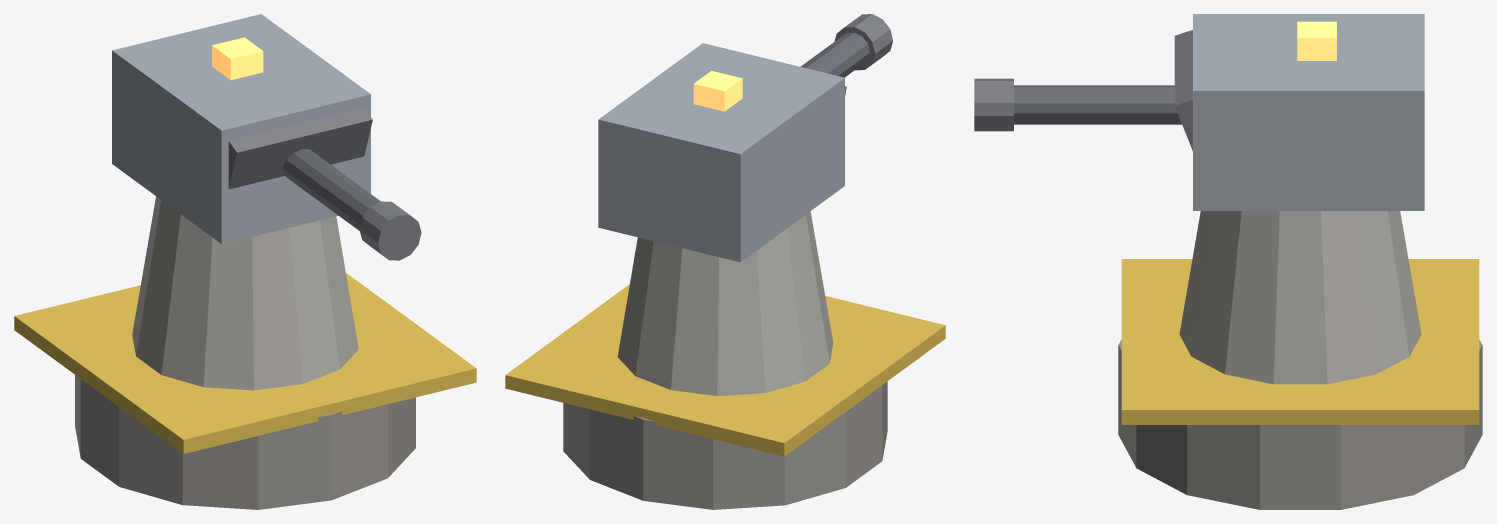
File: Bldg_HeavyTurret.fbx
The picture shows the model from 3 angles, left to right: view 1: azimuth 30°, elevation 25°; view 2: azimuth 150°, elevation 25°; view 3: azimuth 270°, elevation 25°; orthographic projection. The views are drawn at different scales.
Visible parts, largest first — view 1: Body.002, Turret.001; view 2: Body.002, Turret.001; view 3: Body.002, Turret.001.
Boxes of the visible parts, x1,y1,x2,y2 form: Body.002: (14,196,476,509); Turret.001: (112,14,421,260); Body.002: (505,211,945,509); Turret.001: (598,14,892,262); Body.002: (1118,211,1482,509); Turret.001: (974,14,1424,210).
Size of the model in its own units: 2.16 by 2.7 by 3.07.
